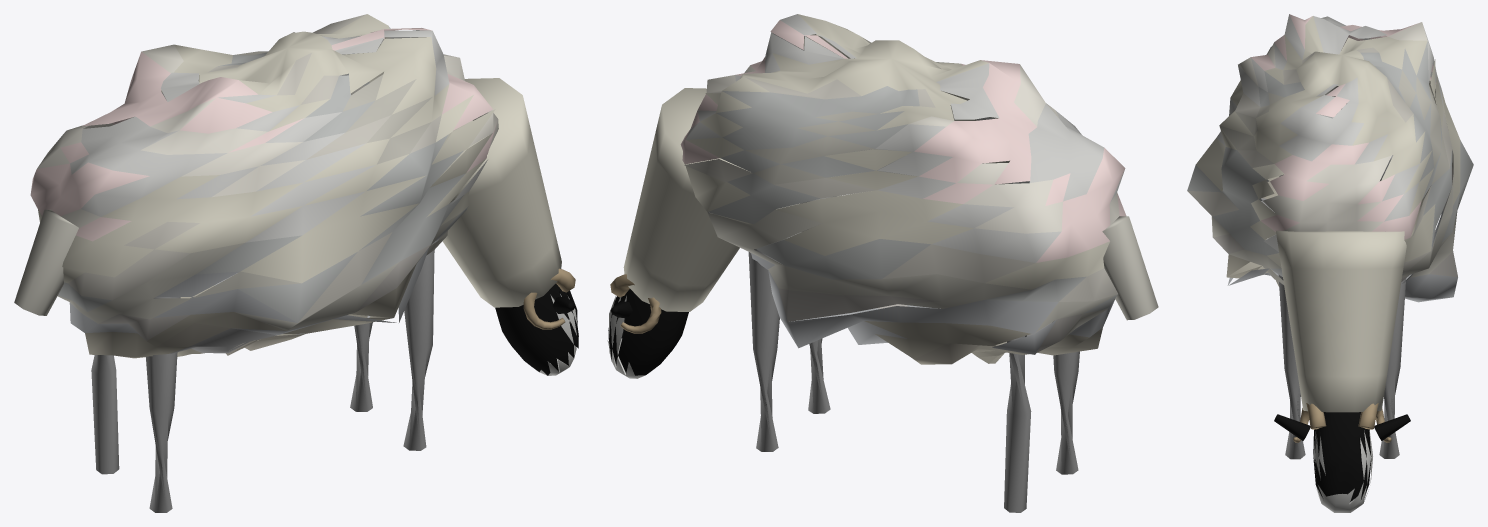
File: animal.farm.sheep_lamba.glb
3 views of the same model, side by side, from view 1: azimuth 30°, elevation 25°; view 2: azimuth 150°, elevation 25°; view 3: azimuth 270°, elevation 25° (orthographic). The views are drawn at different scales.
Visible parts, largest first — view 1: main__paint_ccb, main__paint_ccc, main__paint_bba, main__paint_dcc, main__paint_bbb, main__paint_999, main__paint_ddc, main__paint_cbb, main__paint_aa9, main__paint_aaa, main__rubber, main__paint_baa (+2 smaller); view 2: main__paint_ccb, main__paint_bbb, main__paint_ccc, main__paint_bba, main__paint_dcc, main__paint_999, main__paint_aaa, main__paint_cbb, main__paint_ddc, main__paint_aa9, main__rubber, main__paint_baa (+2 smaller); view 3: main__paint_ccb, main__paint_ccc, main__paint_bbb, main__paint_ddc, main__paint_dcc, main__rubber, main__paint_bba, main__paint_999, main__paint_cbb, main__paint_aaa, main__paint_987, main__paint_baa (+1 smaller).
Part boxes in pixels (x1,y1,x2,y2): main__paint_ccb: [38, 14, 561, 307]; main__paint_ccc: [70, 26, 577, 375]; main__paint_bba: [14, 51, 459, 330]; main__paint_dcc: [30, 28, 496, 241]; main__paint_bbb: [58, 51, 468, 322]; main__paint_999: [91, 242, 434, 512]; main__paint_ddc: [37, 44, 498, 228]; main__paint_cbb: [68, 14, 441, 322]; main__paint_aa9: [85, 264, 416, 358]; main__paint_aaa: [69, 239, 438, 339]; main__rubber: [495, 283, 578, 375]; main__paint_baa: [98, 245, 430, 340]; main__paint_ccb: [623, 14, 1126, 311]; main__paint_bbb: [708, 62, 1117, 313]; main__paint_ccc: [607, 14, 1124, 378]; main__paint_bba: [707, 38, 1158, 340]; main__paint_dcc: [680, 20, 1125, 262]; main__paint_999: [748, 196, 1079, 512]; main__paint_aaa: [751, 195, 1114, 354]; main__paint_cbb: [684, 77, 1117, 301]; main__paint_ddc: [706, 64, 1119, 233]; main__paint_aa9: [864, 321, 1102, 364]; main__rubber: [608, 289, 688, 375]; main__paint_baa: [750, 172, 1082, 352]; main__paint_ccb: [1196, 16, 1460, 412]; main__paint_ccc: [1216, 14, 1443, 512]; main__paint_bbb: [1187, 41, 1473, 276]; main__paint_ddc: [1238, 22, 1437, 231]; main__paint_dcc: [1251, 14, 1436, 239]; main__rubber: [1274, 412, 1410, 502]; main__paint_bba: [1211, 70, 1457, 284]; main__paint_999: [1261, 155, 1406, 459]; main__paint_cbb: [1187, 47, 1452, 273]; main__paint_aaa: [1227, 209, 1457, 302]; main__paint_987: [1293, 403, 1391, 442]; main__paint_baa: [1213, 168, 1457, 281].
Size of the model in its own units: 1.44 by 1.02 by 0.7309.
